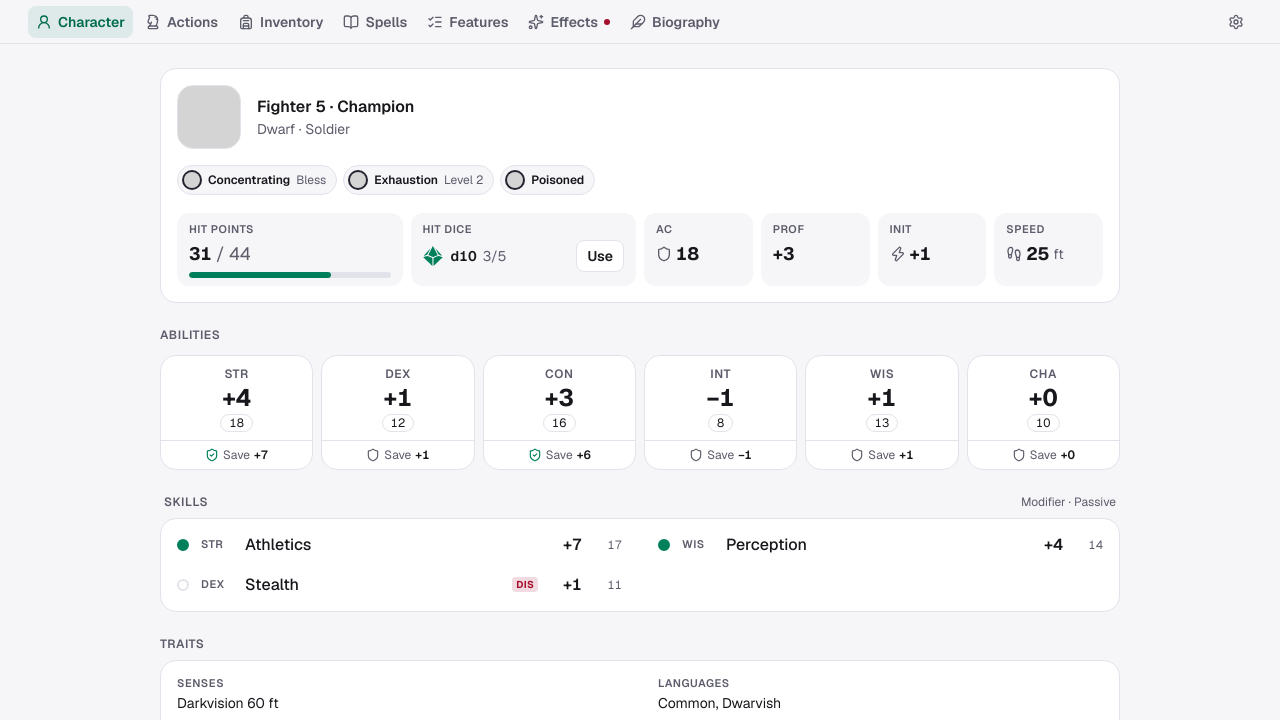
components/character-sheet/character-pane › shows Actions
Click the tab "Actions" at (182, 22), box [137, 6, 226, 38]
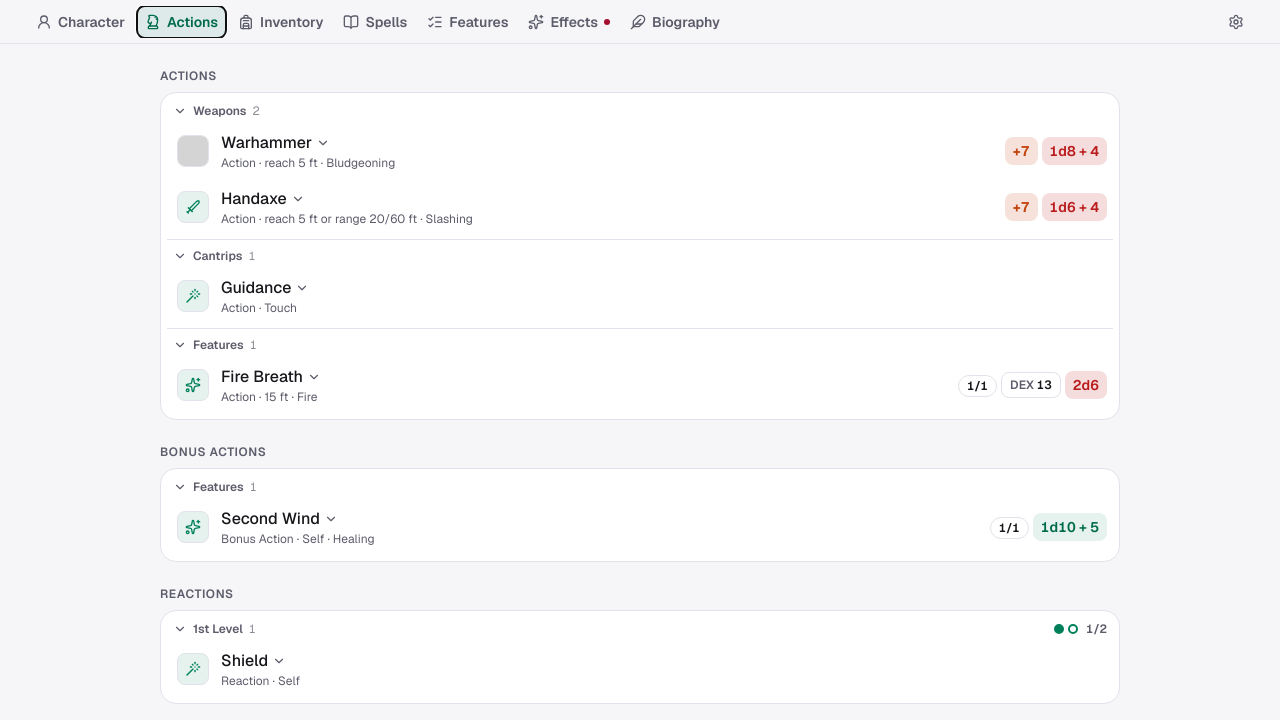
Result: the heading "Bonus Actions" is shown at [160, 444, 266, 460]
